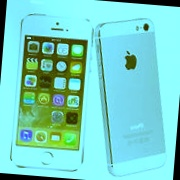iphone: (91, 19, 165, 173)
